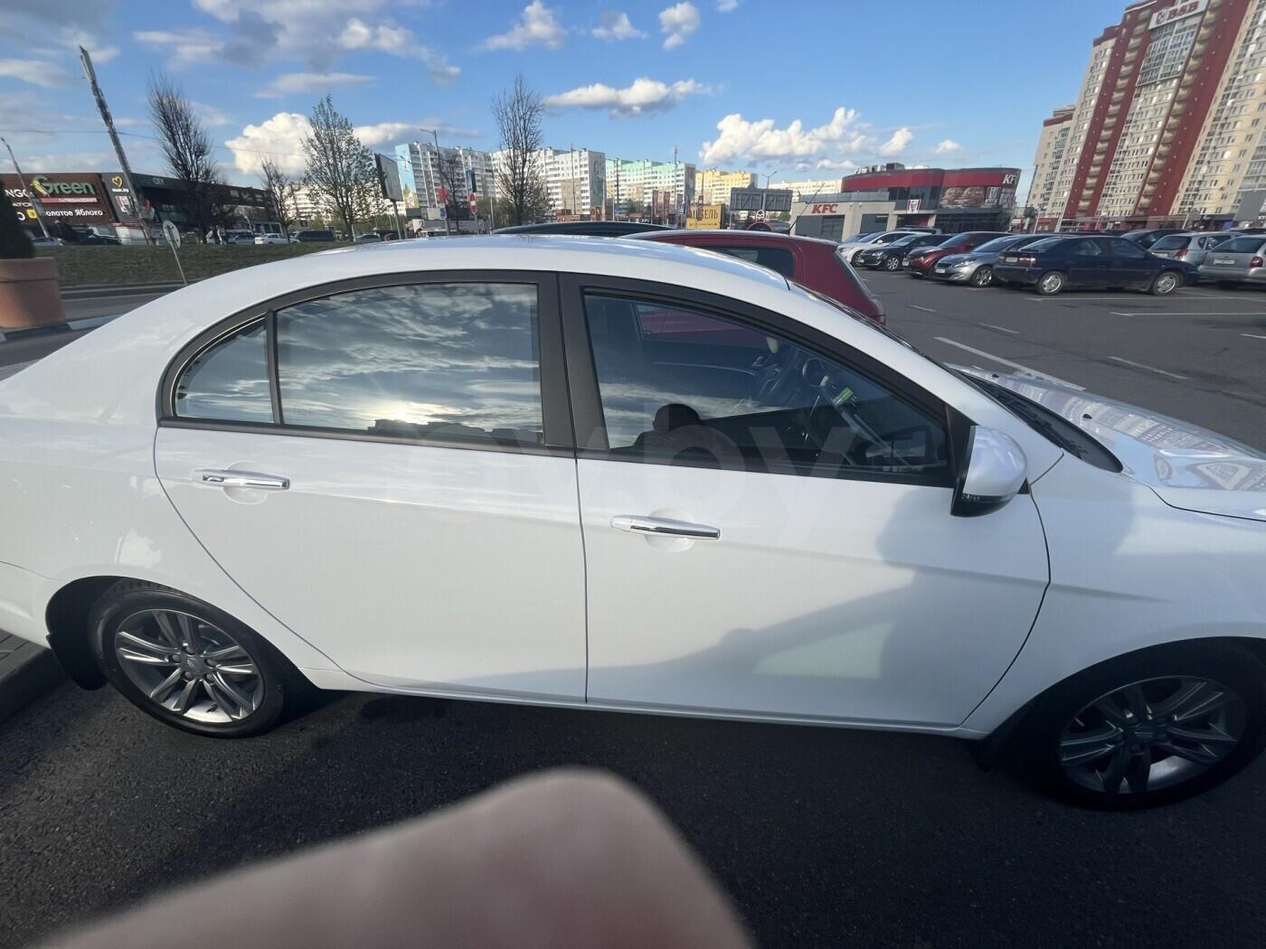Emgrand_2019-2021: (0, 237, 1265, 803)
